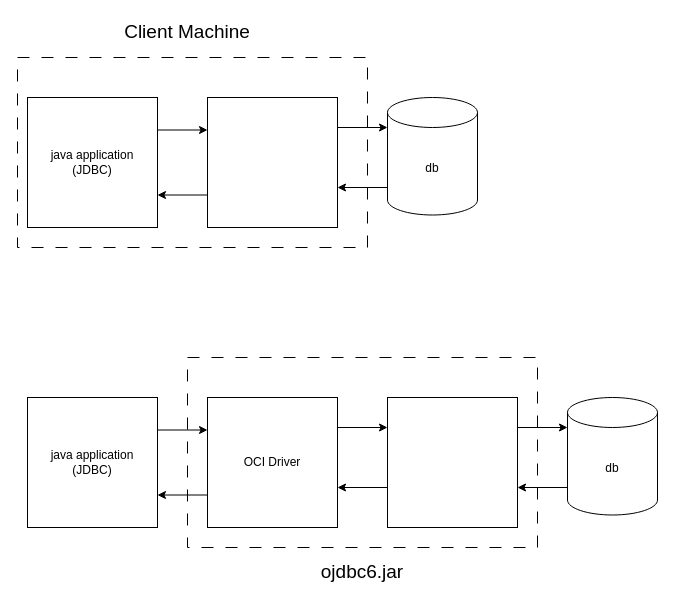
The diagram is 675 pixels wide and 604 high, and some of its shapes have lost their labels. Here are the shapes that lost their labels. From the top down, the box of each, then its label:
(206, 96, 338, 228): Type -4 Driver
(386, 396, 518, 528): OCI Libraries
